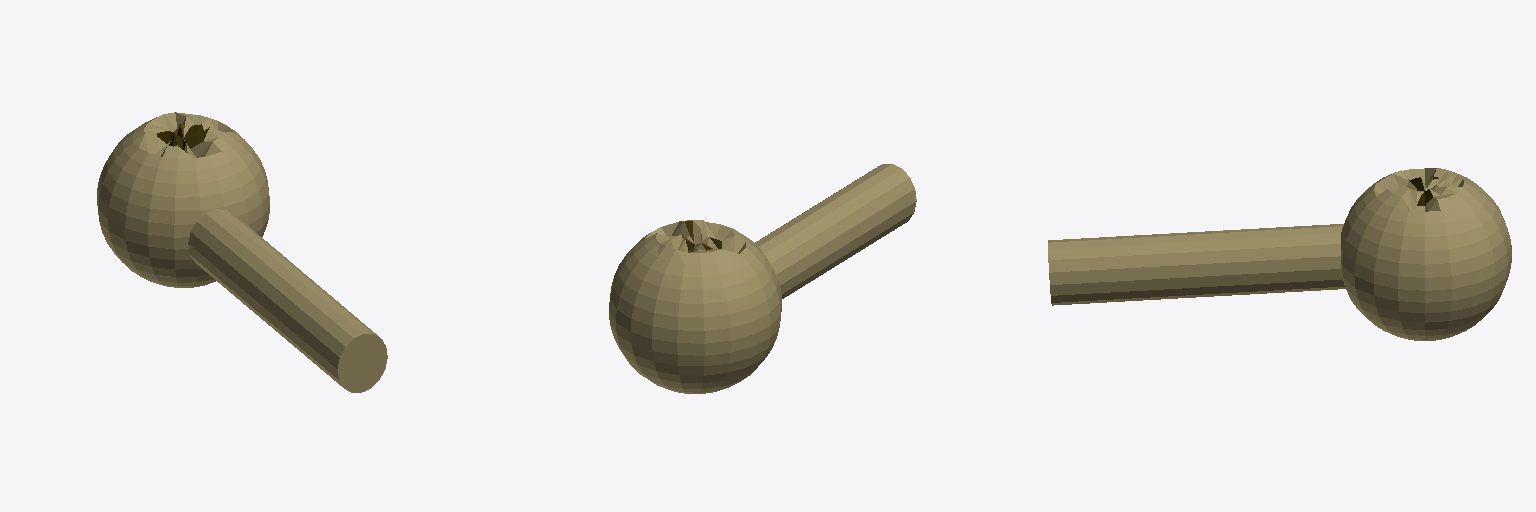
File: newscene.obj
3 renders of one model, left to right at view 1: azimuth 30°, elevation 25°; view 2: azimuth 150°, elevation 25°; view 3: azimuth 270°, elevation 25°, orthographic.
Visible parts, largest first — view 1: sphere29, cylinder30; view 2: sphere29, cylinder30; view 3: sphere29, cylinder30.
Boxes of the visible parts, x1,y1,x2,y2 form: sphere29: [97, 112, 269, 287]; cylinder30: [188, 209, 387, 392]; sphere29: [609, 220, 781, 393]; cylinder30: [755, 164, 916, 298]; sphere29: [1341, 168, 1511, 340]; cylinder30: [1048, 224, 1345, 305].
Bounding box in the file's own units: 133 × 129 × 353.